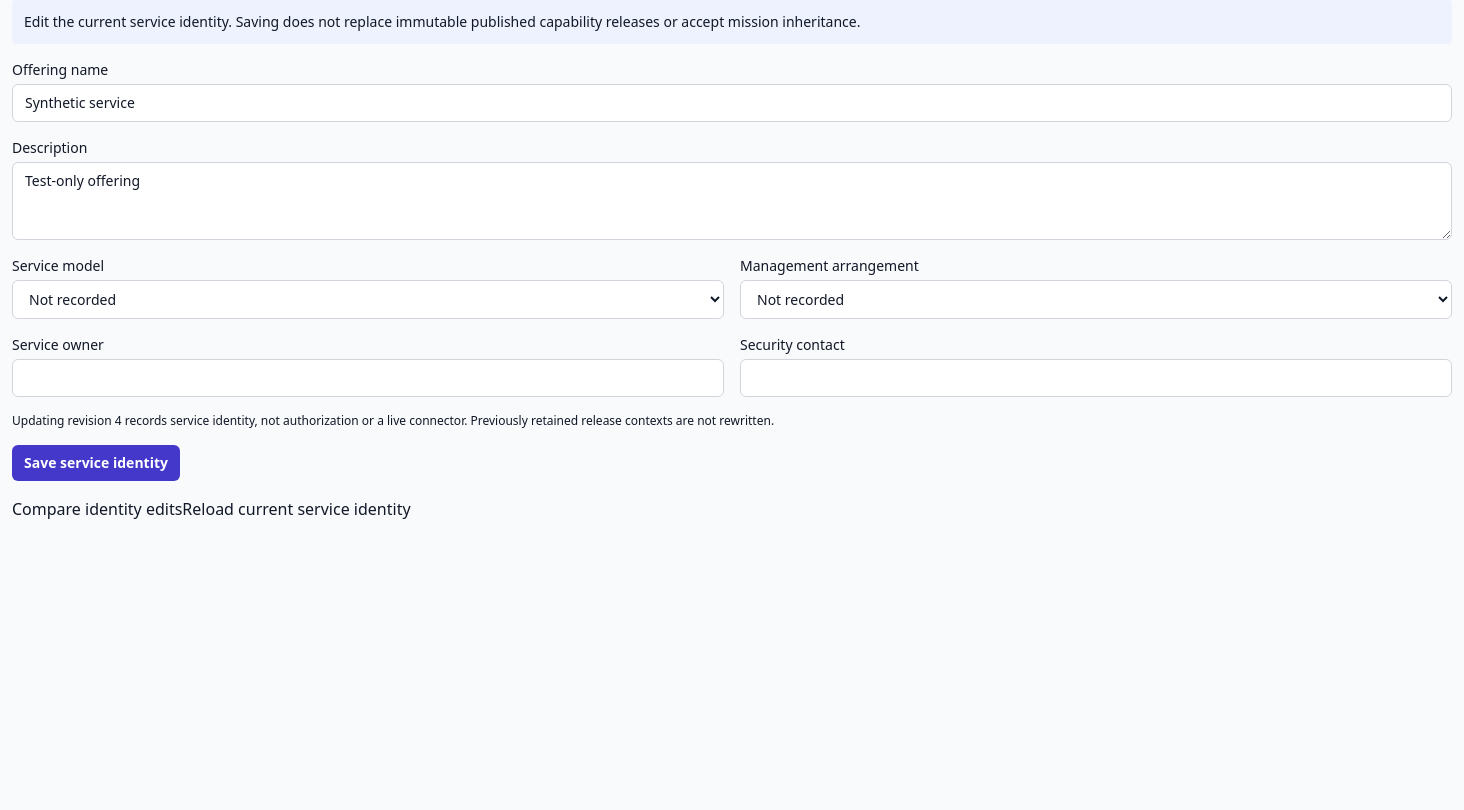
it: compares unsaved identity with its opening persisted revision without inventing a published identity
Type "Proposed service team" into the field labelled "Service owner". click: x=368, y=378
box: [12,359,724,397]
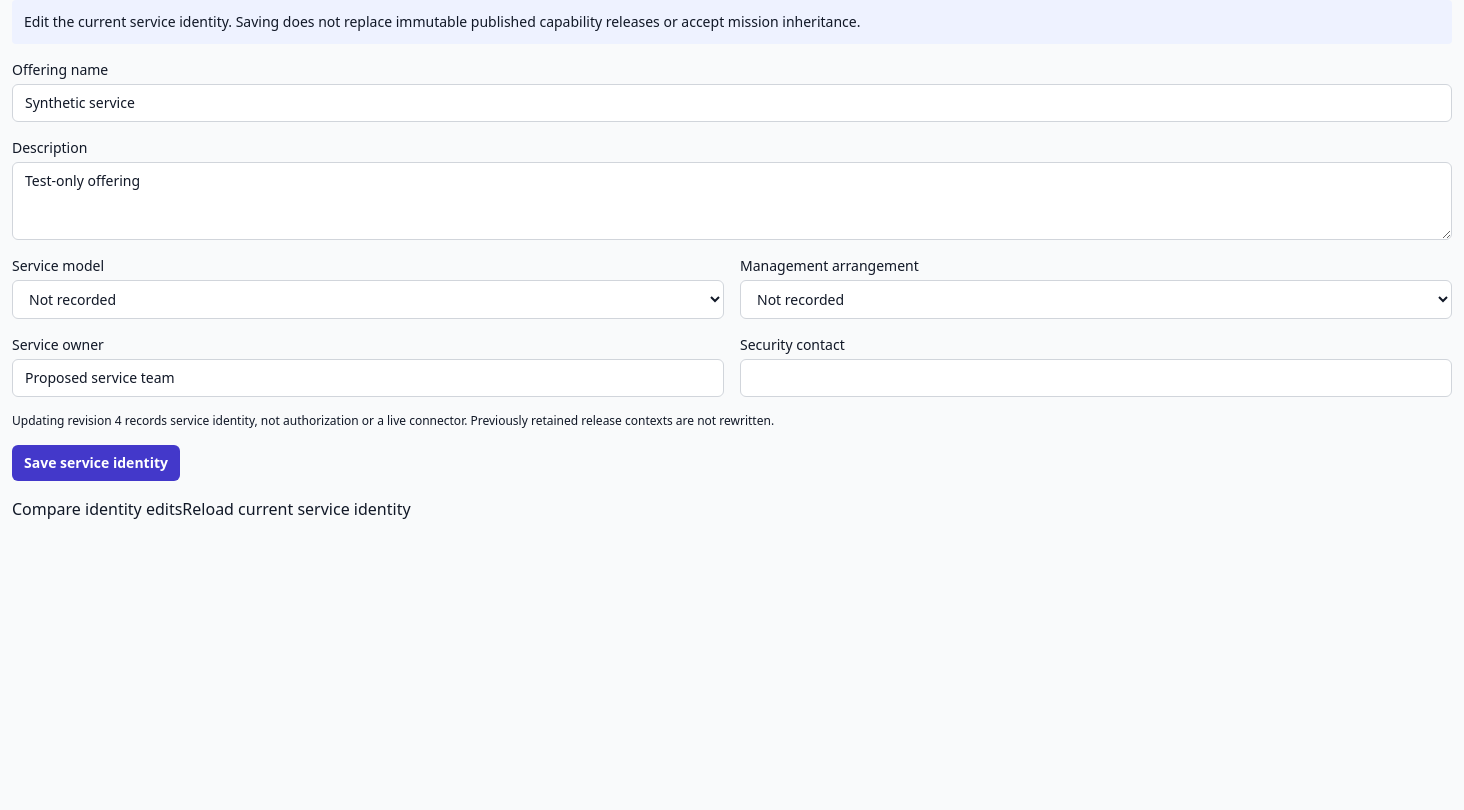
Click the button "Compare identity edits". click: x=97, y=509
box: [12,497,182,521]
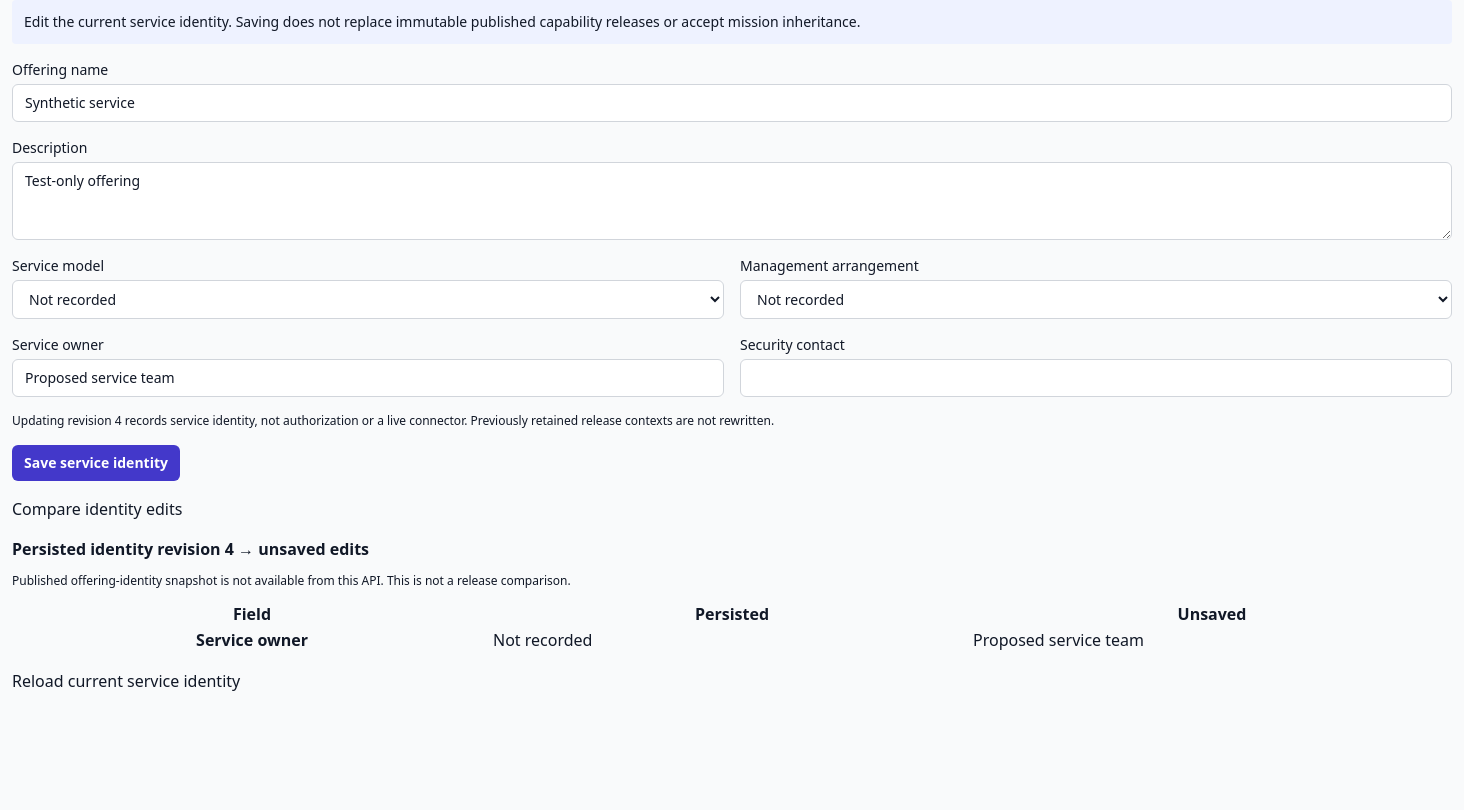
Result: the table named "Identity changes" shows "Proposed service team" at [973,629,1144,651]
Result: the text "Published offering-identity snapshot is not available" is shown at [12,572,571,589]
